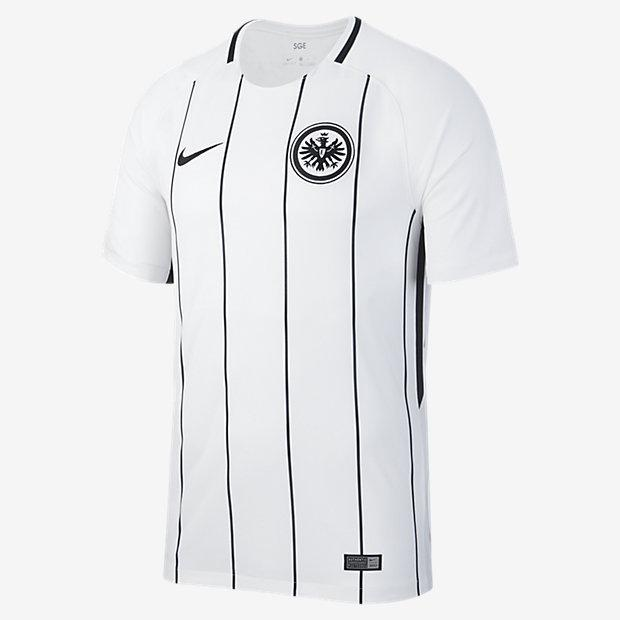teeshirt: (112, 11, 525, 615)
